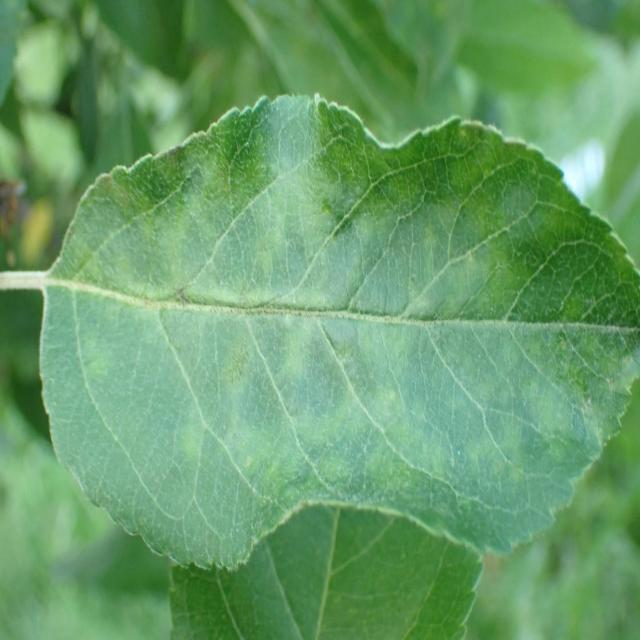scab: (61, 107, 640, 541)
